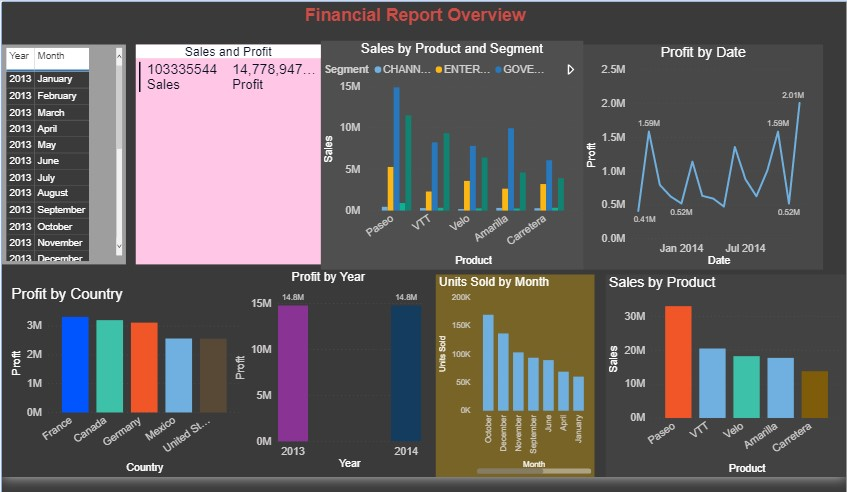

The page's visual inventory and layout, read from the dashboard file:
{"tool":"powerbi","page":{"name":"Page 1","canvas":[1280,720],"ordinal":0},"visuals":[{"type":"textbox","box":[9.5,0,1234.6,64.4],"z":0},{"type":"tableEx","fields":{"Values":["Calendar.Date.Variation.Date Hierarchy.Year","Calendar.Date.Variation.Date Hierarchy.Month"]},"box":[0,64.5,187.7,333.7],"z":1000},{"type":"multiRowCard","title":"Sales and Profit","fields":{"Values":["Sum(Financial. Sales)","Sum(Financial.Profit)"]},"box":[202.9,64.5,280.7,333.7],"z":2000},{"type":"clusteredColumnChart","fields":{"Y":["Sum(Financial.Profit)"],"Category":["Calendar.Date.Variation.Date Hierarchy.Year"]},"box":[348.9,405.8,292,307.2],"z":3000},{"type":"clusteredColumnChart","fields":{"Y":["Sum(Financial. Sales)"],"Category":["Financial.Product"],"Series":["Financial.Segment"]},"box":[483.6,58.8,398.2,347],"z":4000},{"type":"lineChart","fields":{"Y":["Sum(Financial.Profit)"],"Category":["Financial.Date"]},"box":[881.8,64.5,364.1,341.3],"z":5000},{"type":"clusteredColumnChart","fields":{"Y":["Sum(Financial.Profit)"],"Category":["Financial.Country"]},"box":[9.5,430.5,358.4,290.1],"z":6000},{"type":"clusteredColumnChart","fields":{"Y":["Sum(Financial. Sales)"],"Category":["Financial.Product"]},"box":[915.9,413.4,364.1,307.2],"z":6001},{"type":"clusteredColumnChart","fields":{"Y":["Sum(Financial.Units Sold)"],"Category":["Financial.Month"]},"box":[658,413.4,240.8,307.2],"z":6002}]}

Visuals, with their boxes in screenshot pixels (x1, y1, x2, y2):
textbox: [2,0,837,44]
tableEx - Calendar.Date.Variation.Date Hierarchy.Year x Calendar.Date.Variation.Date Hierarchy.Month: [0,44,123,269]
"Sales and Profit" multiRowCard: [133,44,323,269]
clusteredColumnChart - Sum(Financial.Profit) x Calendar.Date.Variation.Date Hierarchy.Year: [232,275,429,482]
clusteredColumnChart - Sum(Financial. Sales) x Financial.Product: [323,40,592,275]
lineChart - Sum(Financial.Profit) x Financial.Date: [592,44,839,275]
clusteredColumnChart - Sum(Financial.Profit) x Financial.Country: [2,291,244,488]
clusteredColumnChart - Sum(Financial. Sales) x Financial.Product: [615,280,846,488]
clusteredColumnChart - Sum(Financial.Units Sold) x Financial.Month: [441,280,604,488]
